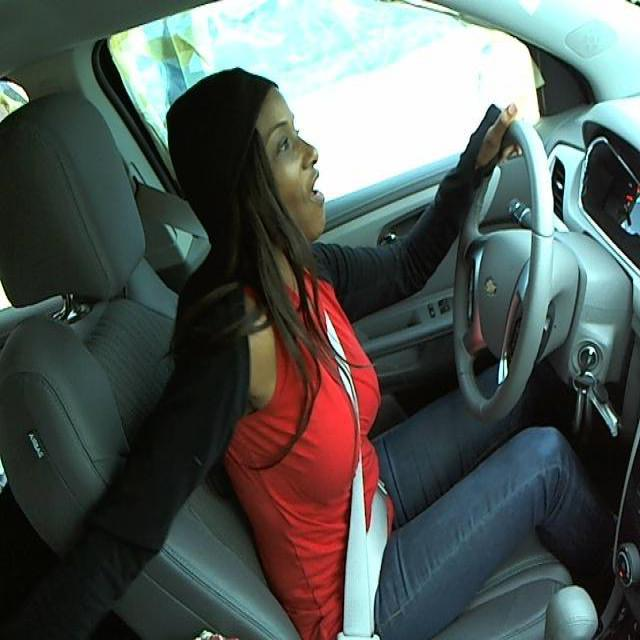seatbelt: (307, 302, 388, 638)
